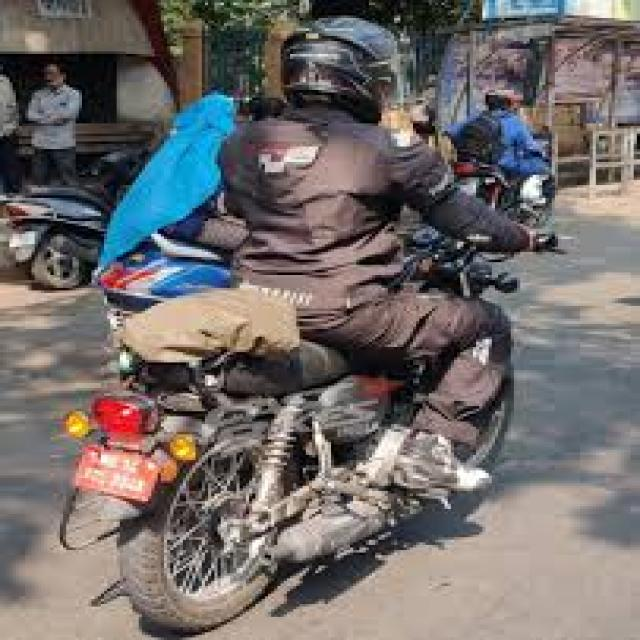not_triplets: (97, 6, 516, 640), (436, 75, 578, 251)
with-helmet: (277, 8, 407, 118), (486, 82, 526, 118)
